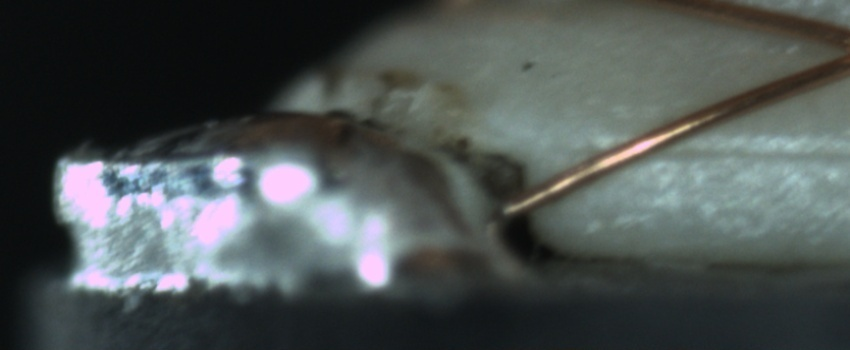DL: (611, 118, 847, 186)
